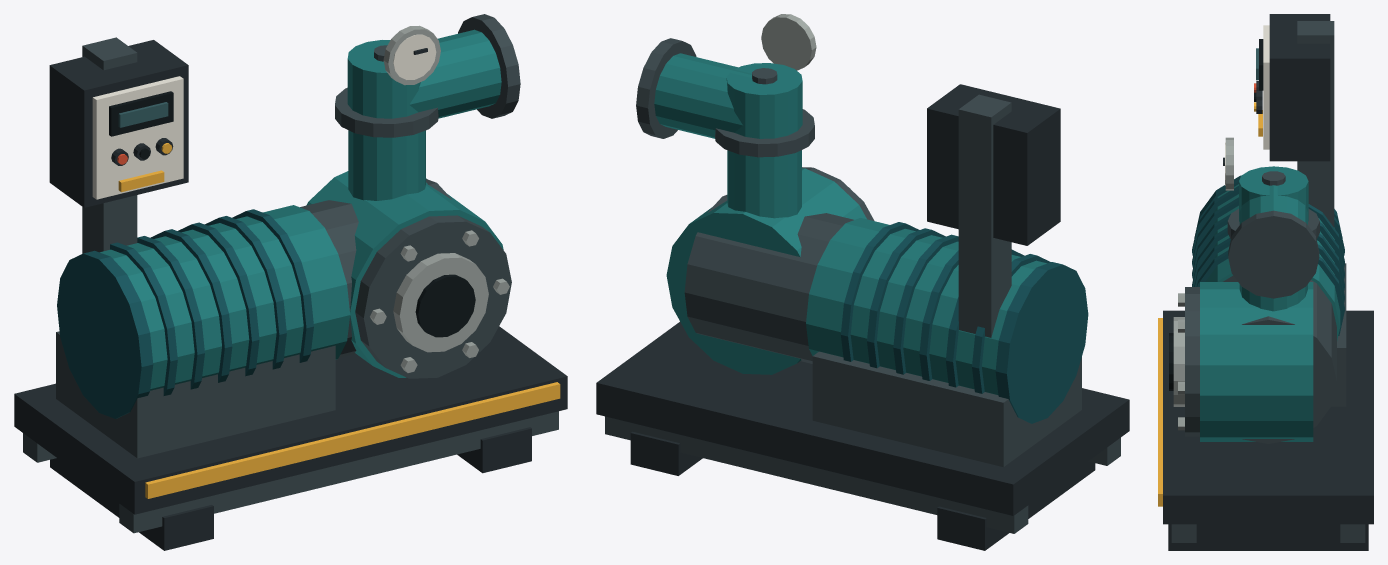
File: pump-skid.glb
The picture shows the model from 3 angles, left to right: view 1: azimuth 30°, elevation 25°; view 2: azimuth 150°, elevation 25°; view 3: azimuth 270°, elevation 25°; orthographic projection. The views are drawn at different scales.
Parts seen in each view (by area): view 1: pump-skid; view 2: pump-skid; view 3: pump-skid.
Boxes of the visible parts, <box> form: pump-skid: <box>14,14,567,550</box>; pump-skid: <box>596,14,1129,550</box>; pump-skid: <box>1158,14,1373,550</box>.
Bounding box in the file's own units: 1.66 × 1.59 × 0.819.
